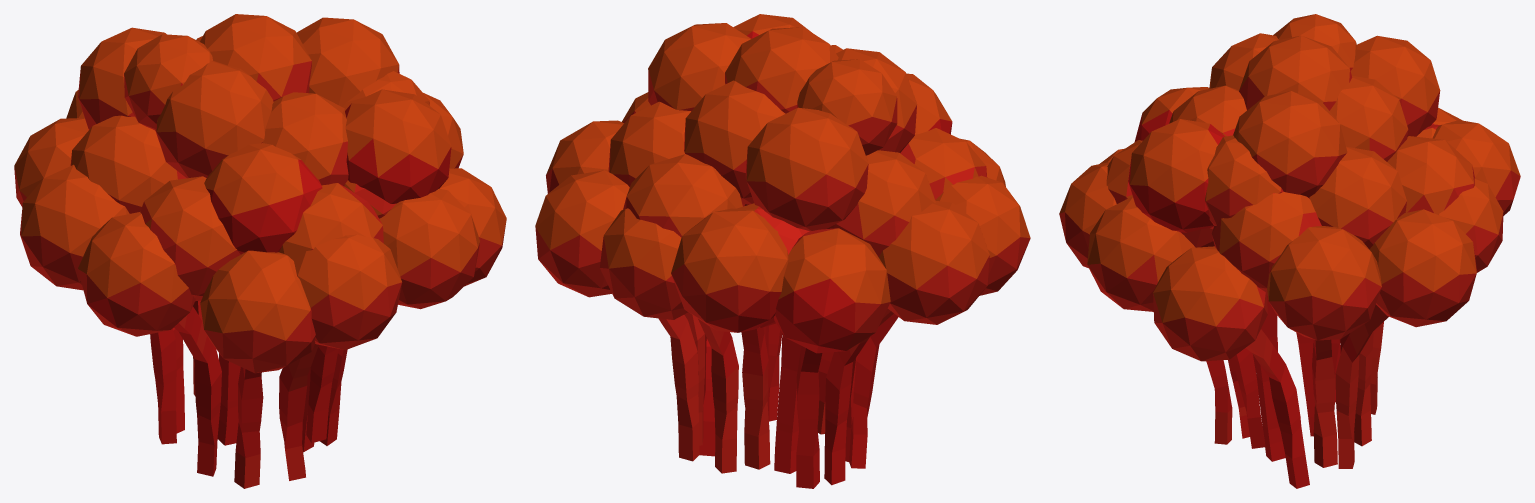
The model's file is bolinhas.fbx.
3 views of the same model, side by side, from view 1: azimuth 30°, elevation 25°; view 2: azimuth 150°, elevation 25°; view 3: azimuth 270°, elevation 25° (orthographic). The views are drawn at different scales.
Parts seen in each view (by area): view 1: Cylinder.001; view 2: Cylinder.001; view 3: Cylinder.001.
Part boxes in pixels (left/top/right/bottom): Cylinder.001: left=14, top=14, right=506, bottom=488; Cylinder.001: left=535, top=14, right=1030, bottom=488; Cylinder.001: left=1059, top=14, right=1520, bottom=488.
Bounding box in the file's own units: 159 × 156 × 160.
